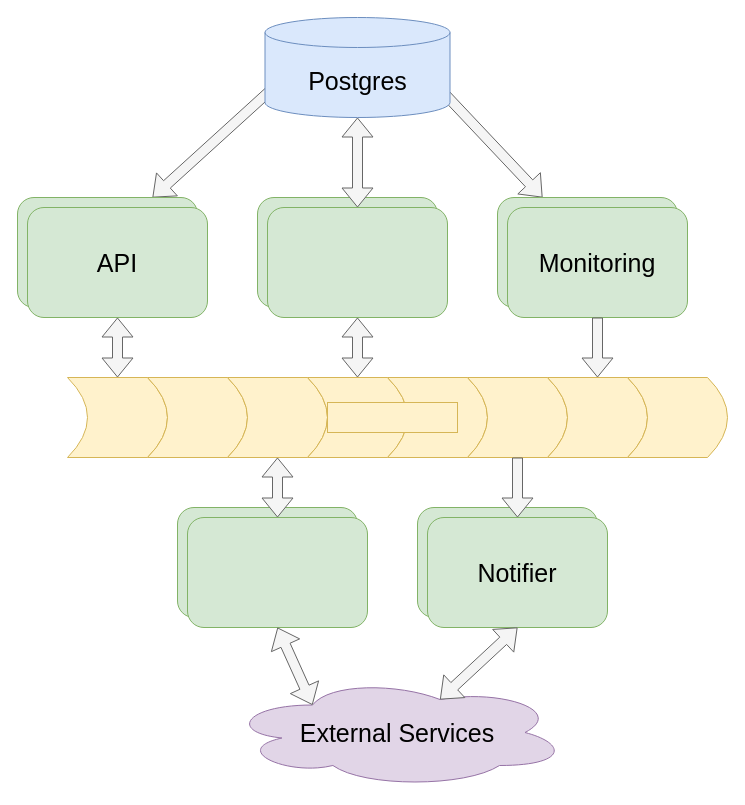
This 745x805 diagram has some shape labels left out. The shapes that lost their labels are listed below. From the top down, each one's centre as x and y in pixels, then its label:
the point at 357,262: Engine
the point at 392,417: RabbitMQ
the point at 277,572: Executor
